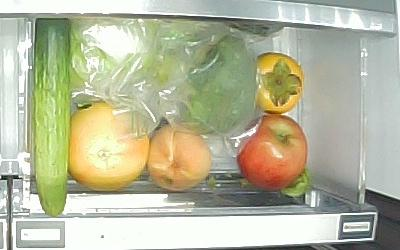apple: (236, 114, 310, 193)
broccoli_vinyl: (161, 29, 257, 134)
cucumber: (33, 18, 70, 218)
grapefruit: (68, 101, 149, 191)
lettuce_vinyl: (70, 19, 161, 98)
peach: (148, 123, 212, 191)
persimmon: (247, 53, 305, 113)
